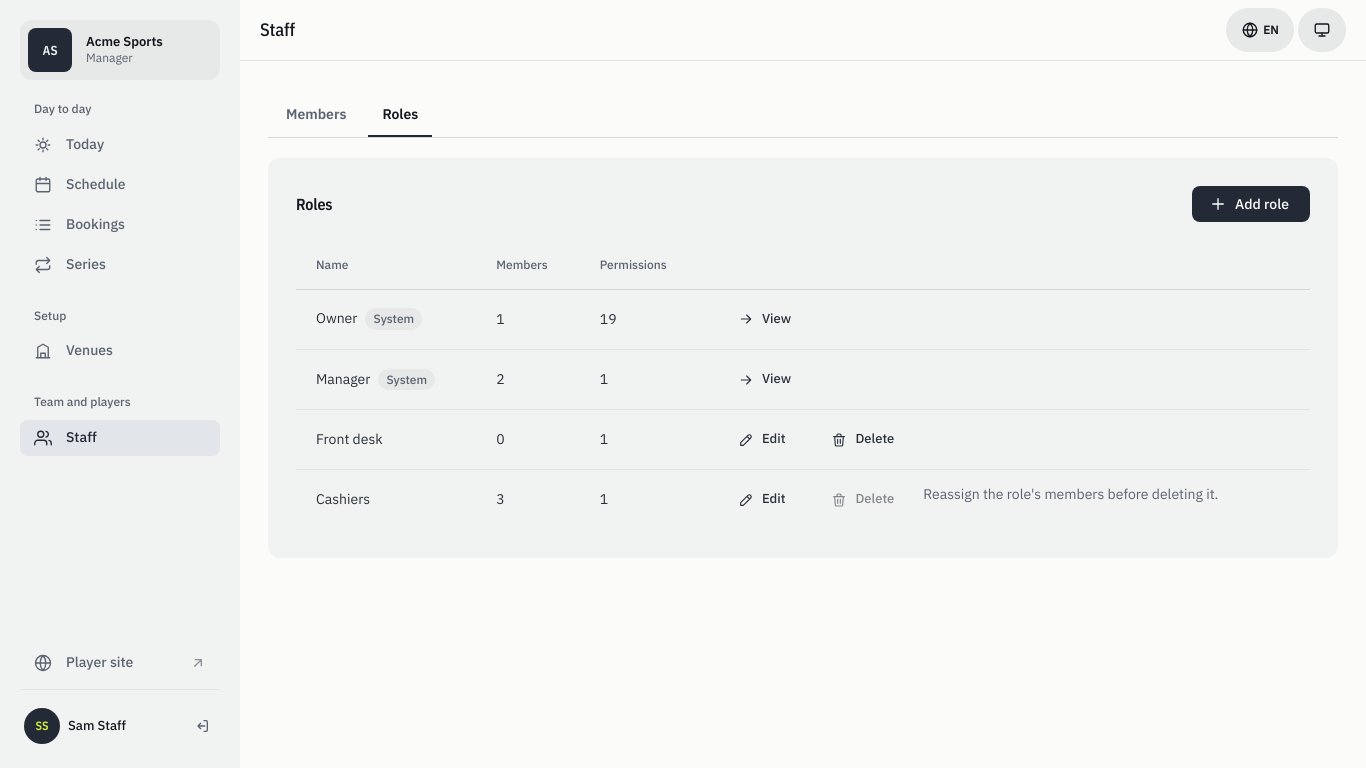
Scenario: roles › role editor lists every permission once and disables ones the caller lacks
The width and height of the screenshot is (1366, 768).
Click the button "Add role" at point(1251, 204), box [1192, 186, 1310, 222]
(page scrolled)
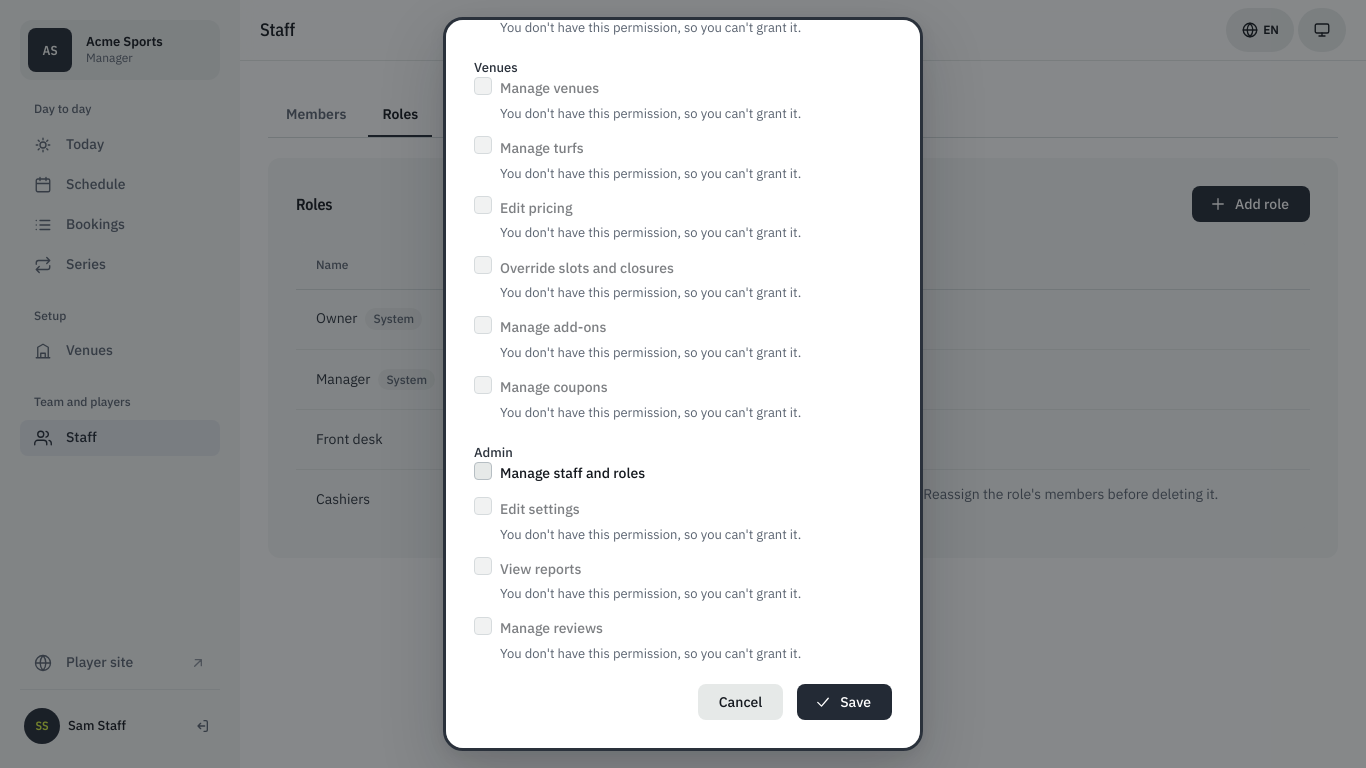
expect the number of checkboxes labelled "Manage venues" is 1: met, box [474, 76, 492, 94]
expect the checkbox labelled "Manage venues" is disabled: met, box [474, 76, 492, 94]
expect the number of checkboxes labelled "Manage turfs" is 1: met, box [474, 136, 492, 154]
